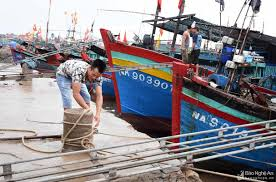tau_dansu: (174, 71, 276, 168), (101, 34, 196, 120)
